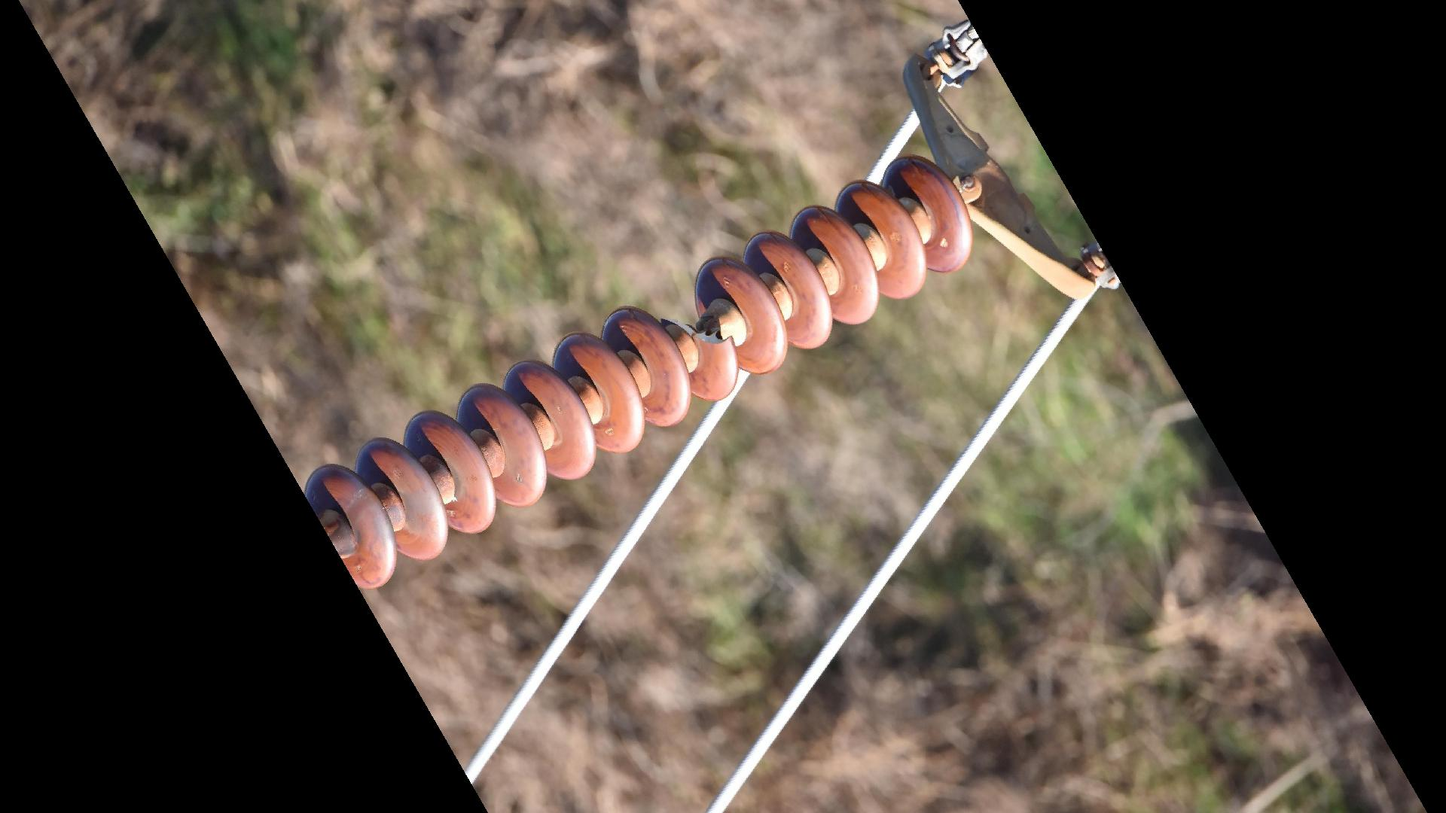insulator: (303, 148, 978, 595)
insulator_breakage: (656, 311, 738, 352)
